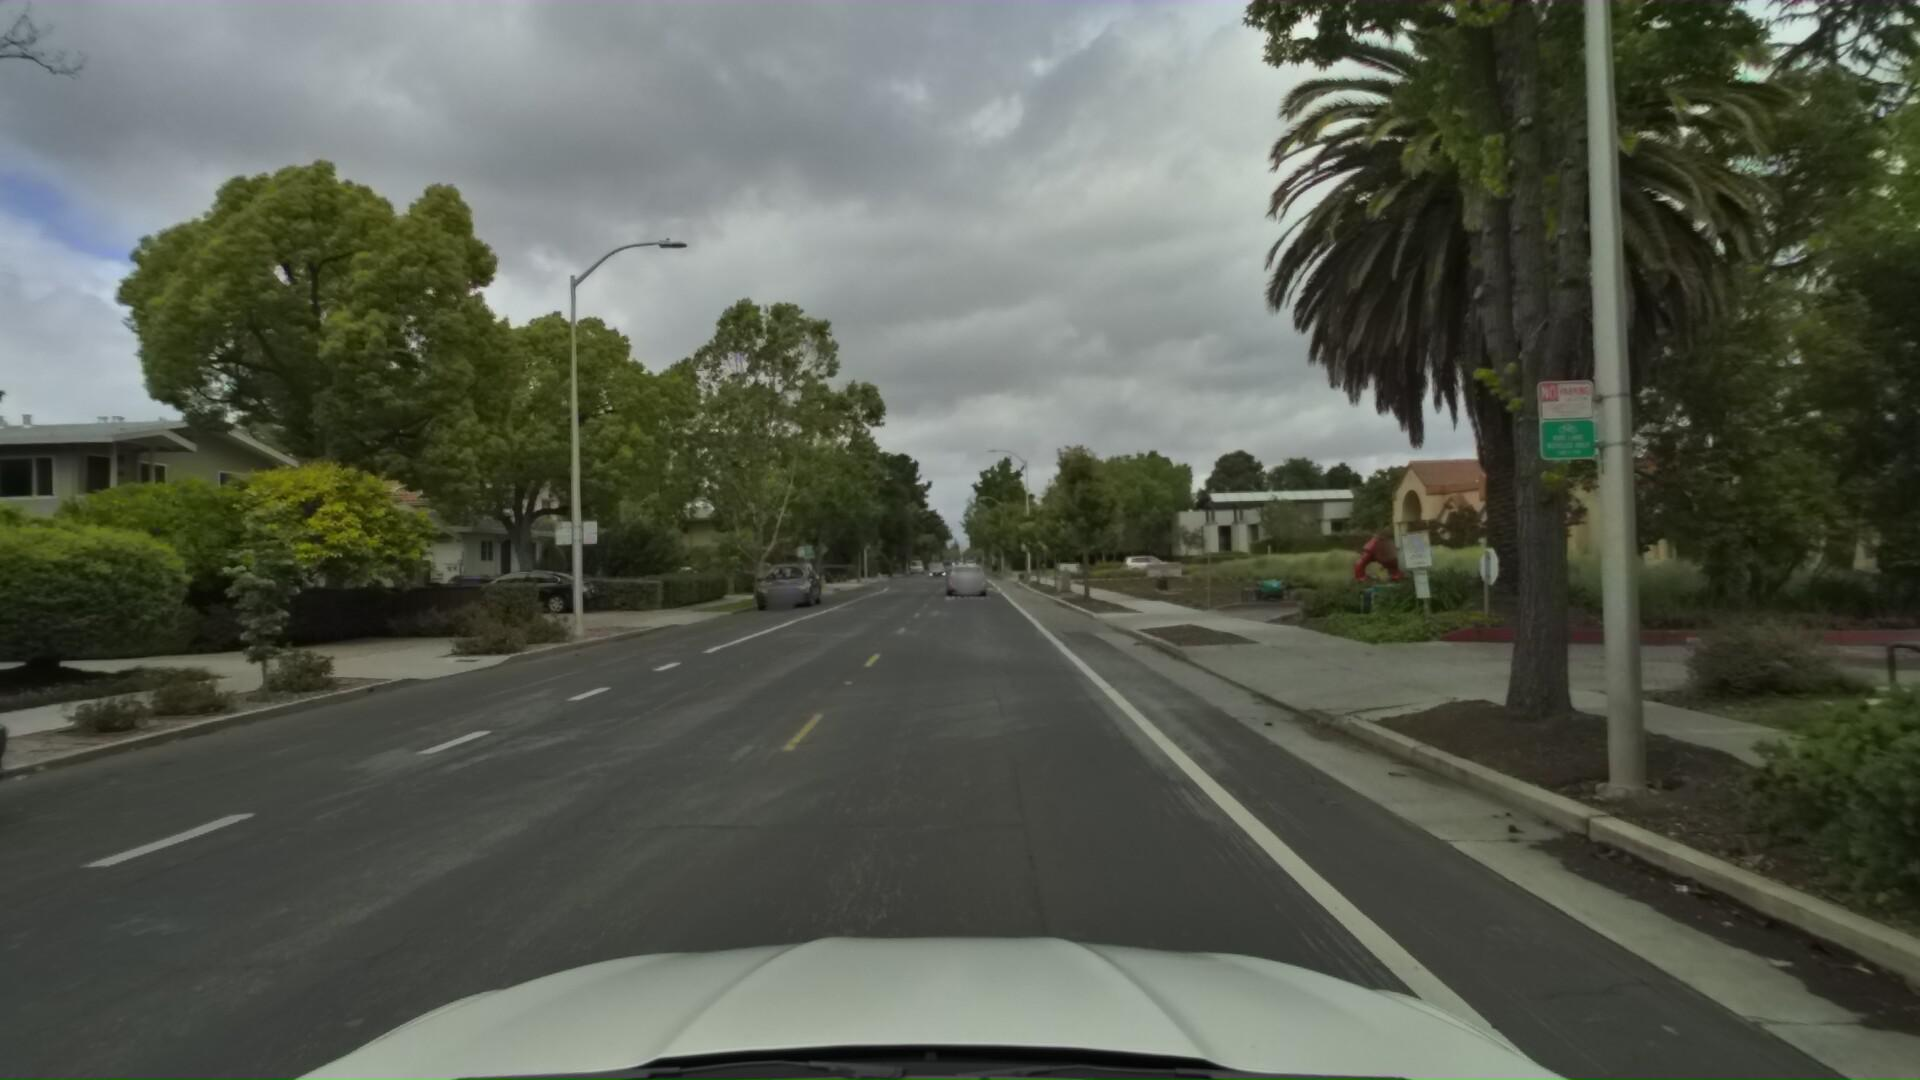car: (448, 560, 604, 612), (0, 601, 13, 1080), (753, 553, 827, 604), (942, 556, 986, 599), (1110, 549, 1174, 571)
